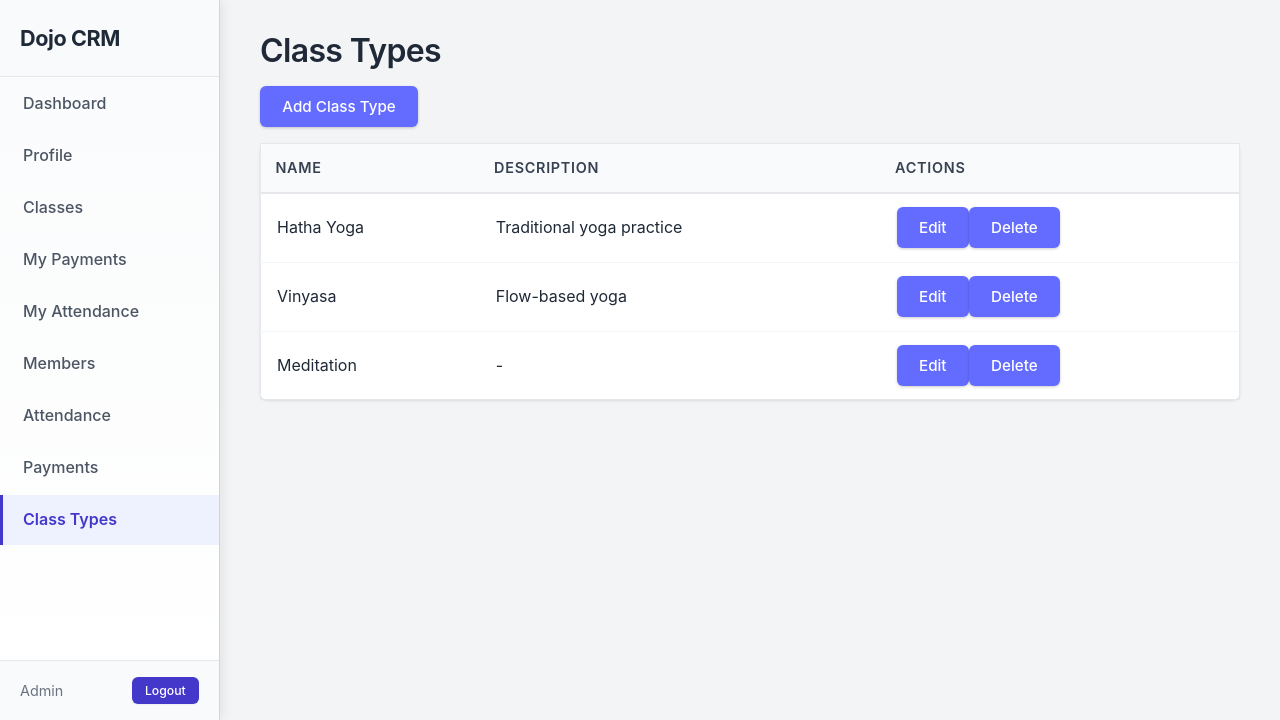
Scenario: ClassTypes › deletes a class type
Expected: the text "Hatha Yoga" is shown, [260,193,480,262]
Click the button "Delete" in the row of "Hatha Yoga" at (1014, 228), box [969,207,1060,248]
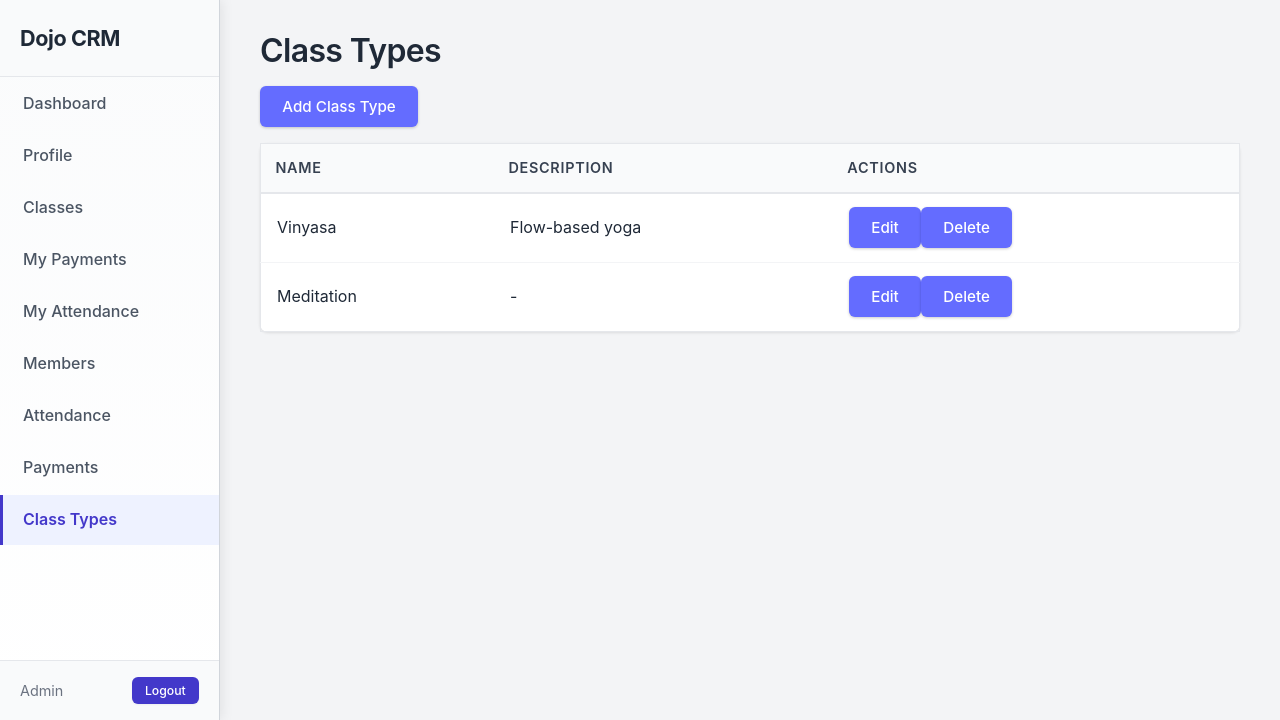
Expected: the text "Vinyasa" is shown, [260,193,494,262]
Expected: the text "Hatha Yoga" is gone
